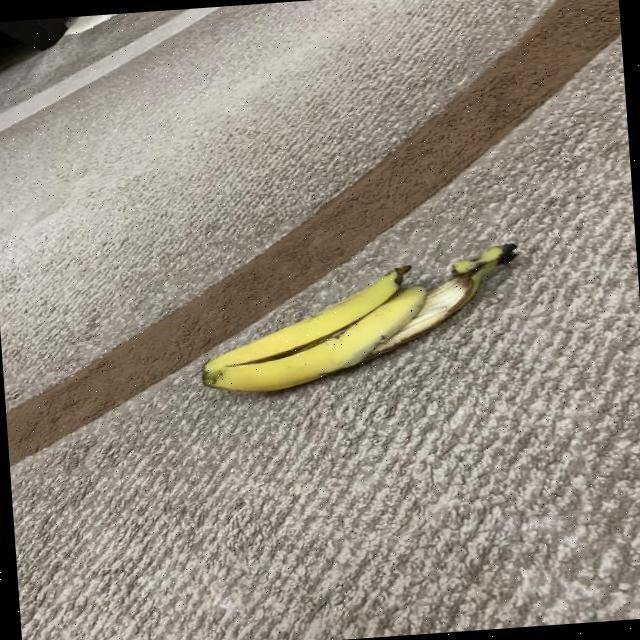banana-peel: (192, 240, 528, 397)
